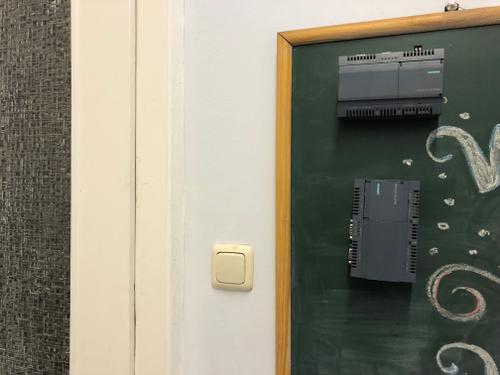device: (338, 46, 445, 121), (349, 179, 421, 283)
